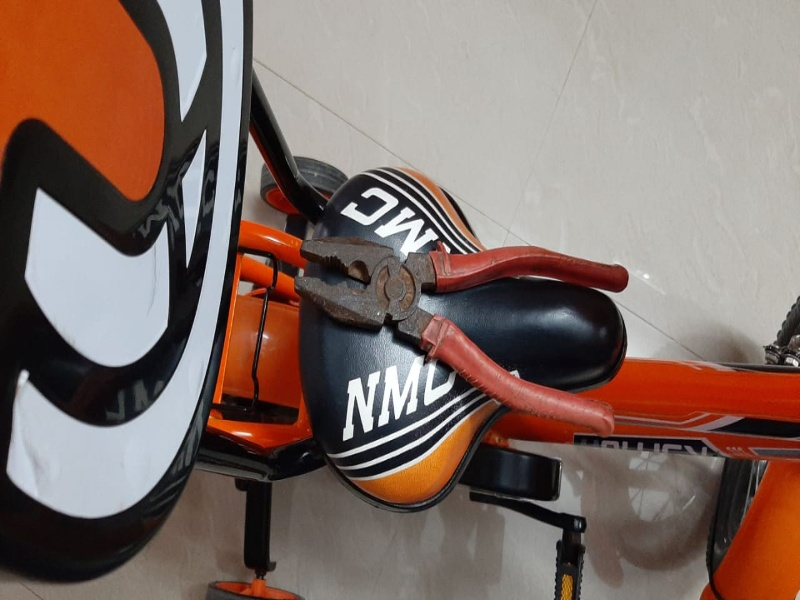cuttingplier: (294, 227, 642, 439)
